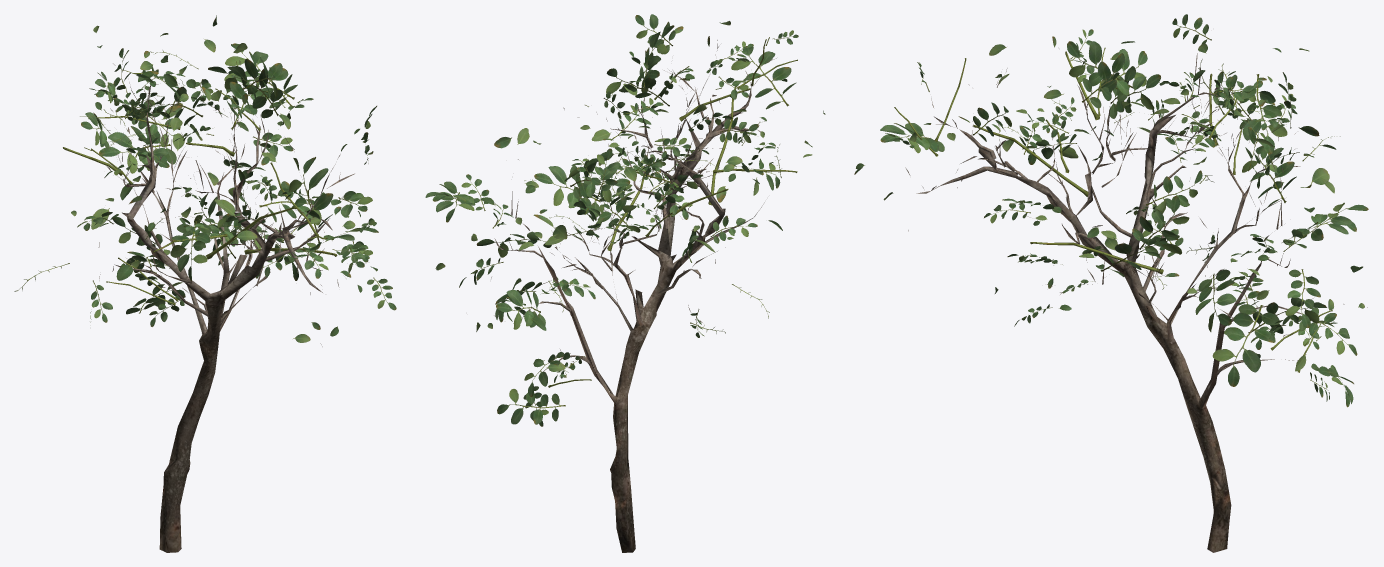
The model's file is ph-tree-small-02.lod1.glb.
3 renders of one model, left to right at view 1: azimuth 30°, elevation 25°; view 2: azimuth 150°, elevation 25°; view 3: azimuth 270°, elevation 25°, orthographic. The views are drawn at different scales.
Parts seen in each view (by area): view 1: tree_small_02_LOD0; view 2: tree_small_02_LOD0; view 3: tree_small_02_LOD0.
Part boxes in pixels (<box>): tree_small_02_LOD0: <box>14,15,396,552</box>; tree_small_02_LOD0: <box>425,14,825,552</box>; tree_small_02_LOD0: <box>854,14,1368,552</box>.
Bounding box in the file's own units: 2.97 × 4.59 × 4.11.
Materials: 3 (3 with a texture image).
